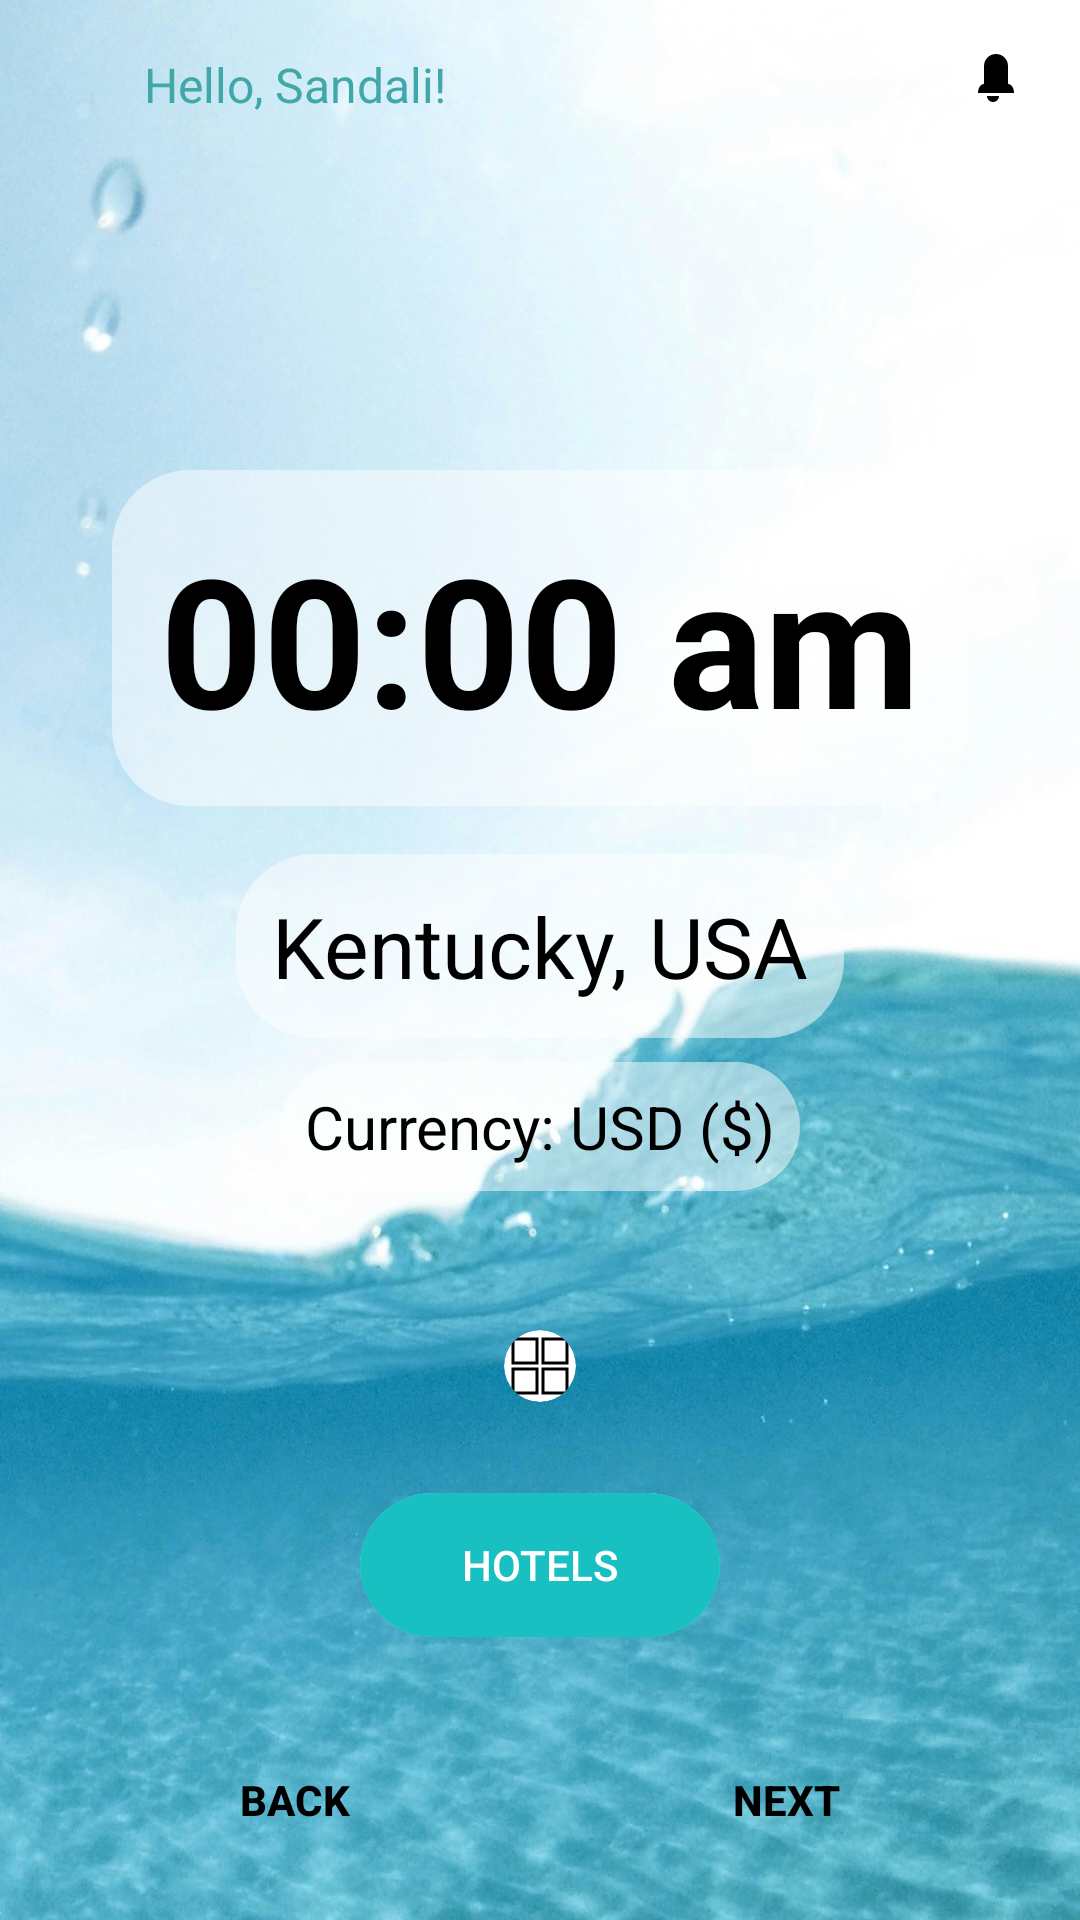

Named icons in this screenshot (1080*1920) and their centers, (x=x, y=y):
notification: (x=996, y=78)
widget: (x=540, y=1366)
